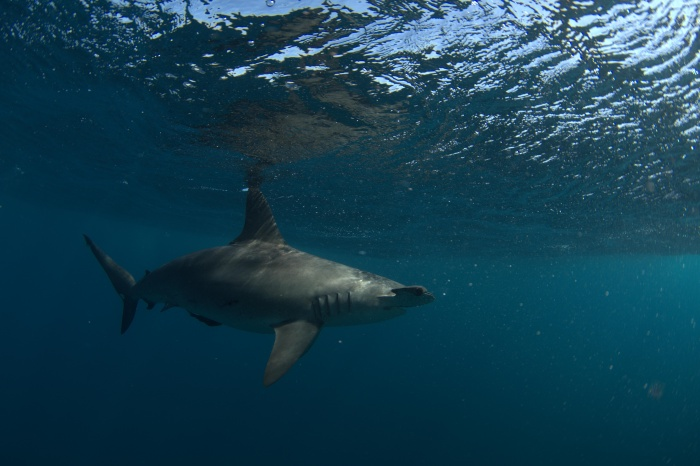Hammer: (61, 163, 461, 405)
